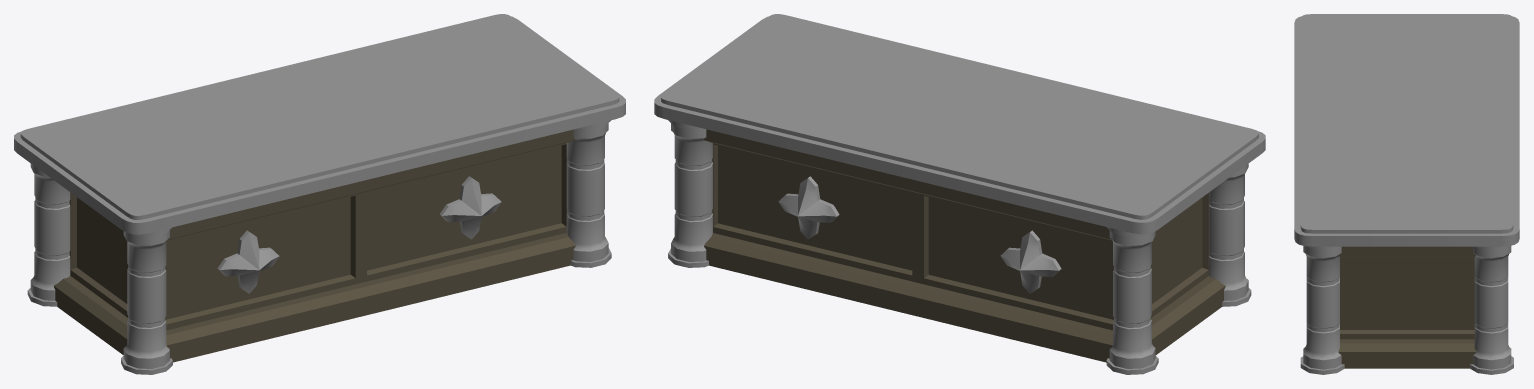
The model's file is Altar.FBX.
The picture shows the model from 3 angles, left to right: view 1: azimuth 30°, elevation 25°; view 2: azimuth 150°, elevation 25°; view 3: azimuth 270°, elevation 25°; orthographic projection. The views are drawn at different scales.
Parts seen in each view (by area): view 1: Lid, Base, Pillars, Ornaments; view 2: Lid, Base, Pillars, Ornaments; view 3: Lid, Base, Pillars.
Part boxes in pixels (x1,y1,x2,y2): Lid: (14, 14, 625, 234); Base: (54, 129, 575, 362); Pillars: (27, 120, 611, 374); Ornaments: (217, 176, 501, 293); Lid: (654, 14, 1265, 234); Base: (704, 129, 1225, 362); Pillars: (668, 120, 1251, 374); Ornaments: (778, 176, 1061, 293); Lid: (1294, 14, 1519, 246); Base: (1338, 246, 1476, 368); Pillars: (1300, 246, 1513, 374).
Bounding box in the file's own units: 111 × 34.18 × 47.66.
